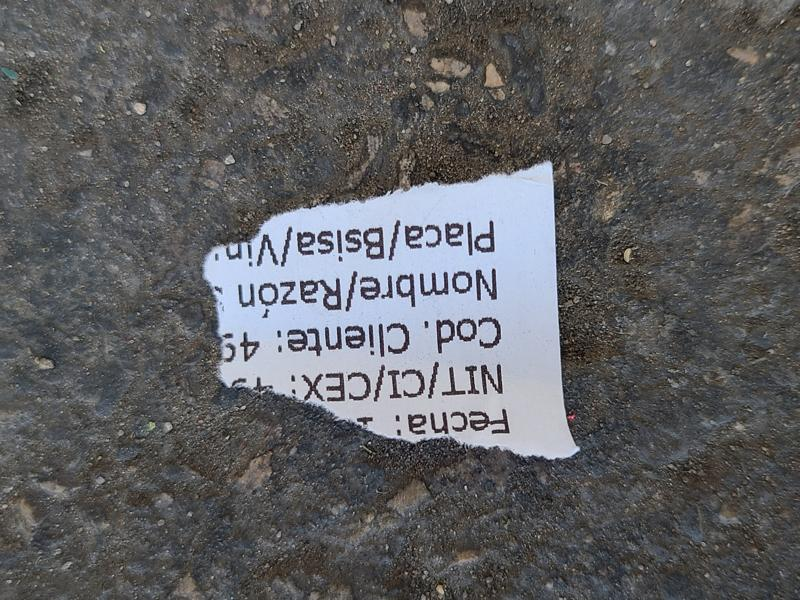papel: (200, 163, 579, 461)
